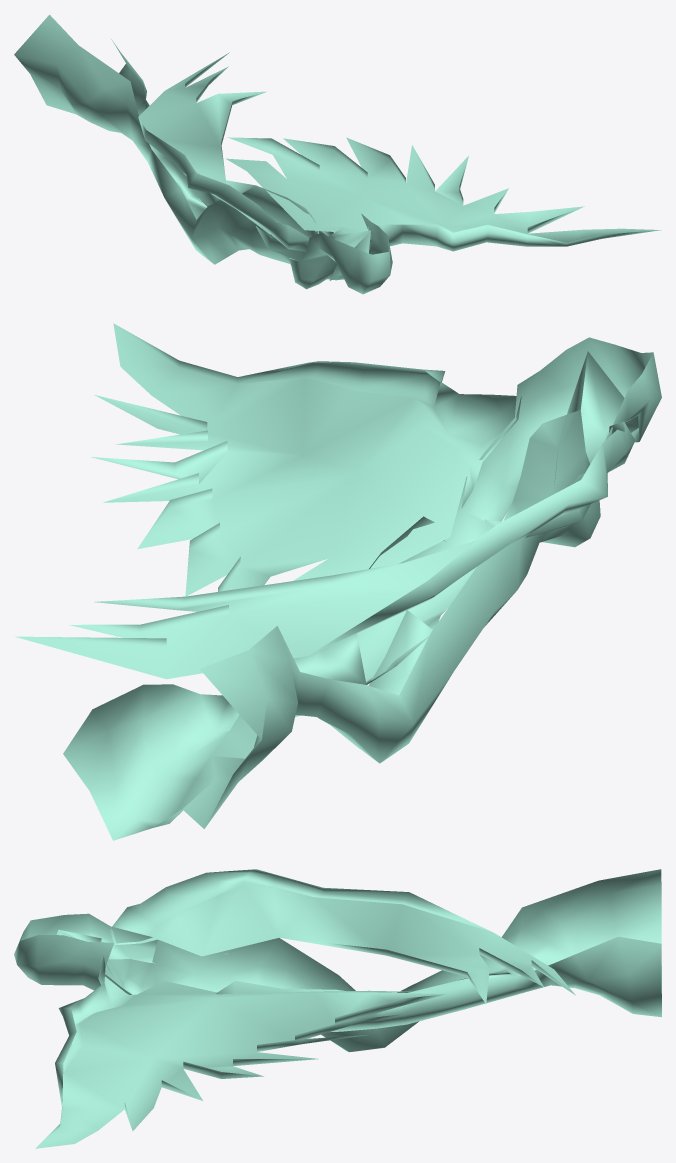
3 views of the same model, one above another, from view 1: azimuth 30°, elevation 25°; view 2: azimuth 150°, elevation 25°; view 3: azimuth 270°, elevation 25° (orthographic). The views are drawn at different scales.
Visible parts, largest first — view 1: Object45; view 2: Object45; view 3: Object45.
Part boxes in pixels (x1,y1,x2,y2): Object45: (14, 14, 661, 294); Object45: (15, 323, 661, 840); Object45: (14, 869, 661, 1148).
Bounding box in the file's own units: 24176 × 9304 × 32324.
